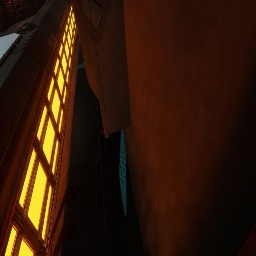SafetySwitchPanel ,: (72, 0, 131, 139)
